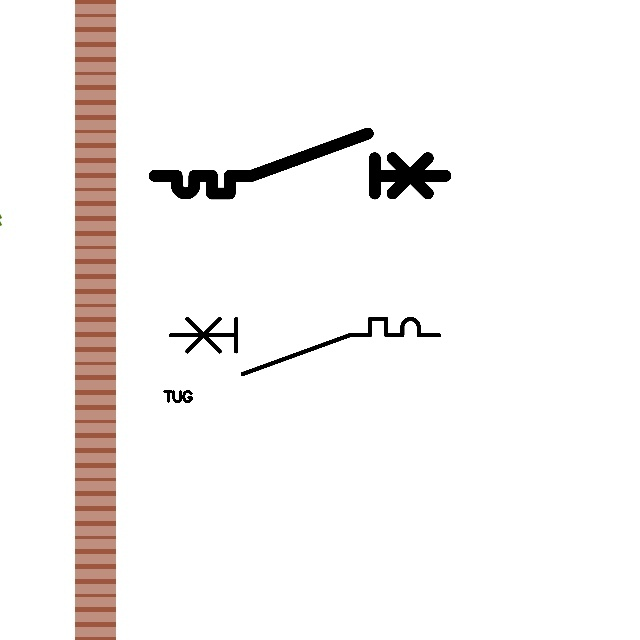interruptor_termomagnetico: (147, 126, 453, 201), (164, 312, 446, 381)
